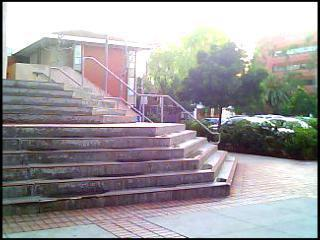Escaleras: (7, 121, 242, 206), (9, 77, 148, 121)
